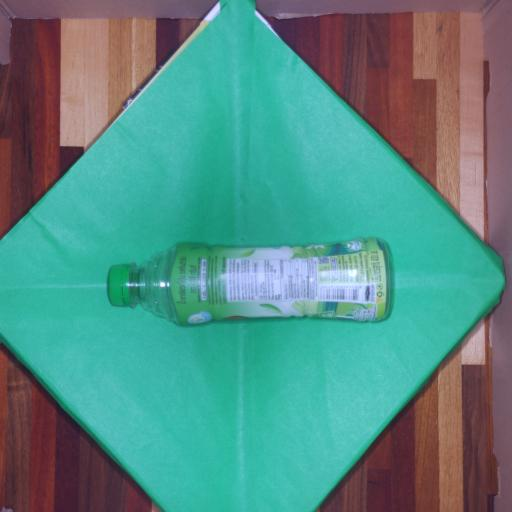bottle: (85, 223, 413, 343)
